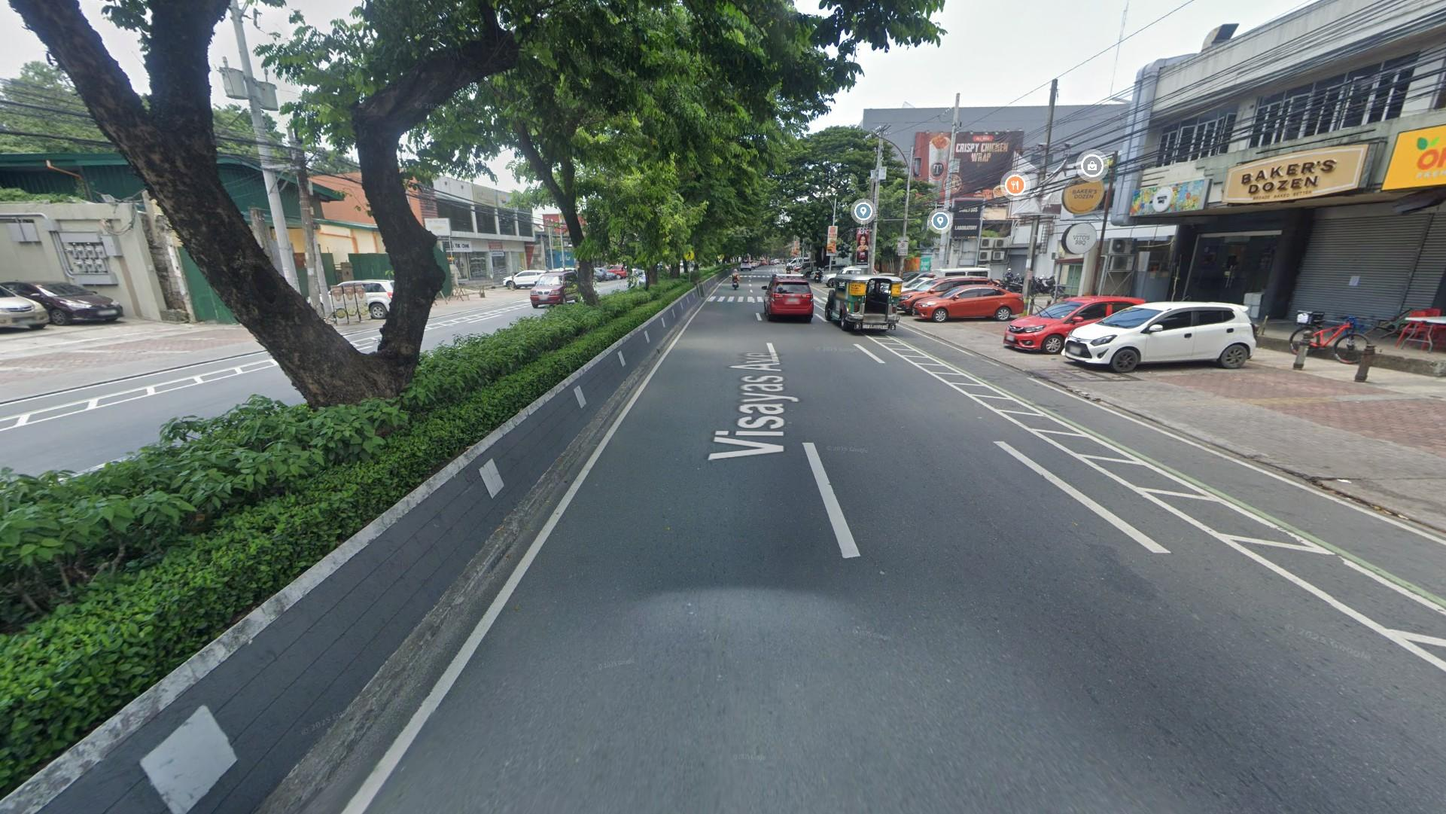pedestrian: (1005, 268, 1014, 289)
